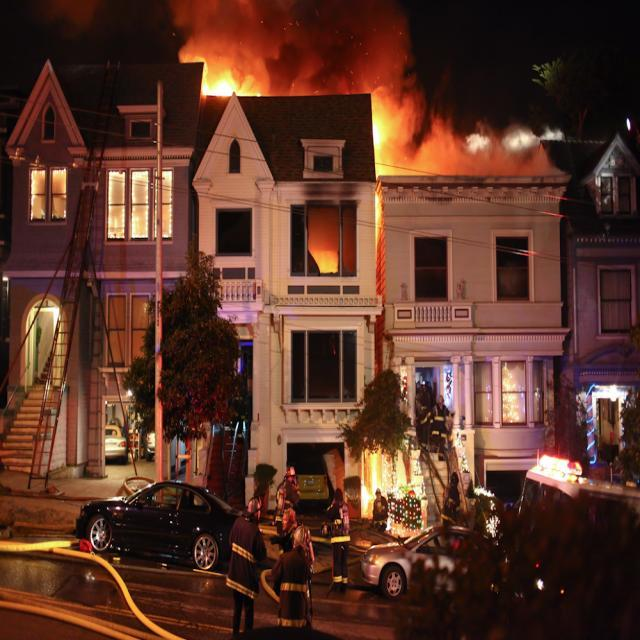Fire: (204, 50, 264, 100), (376, 102, 412, 176)
